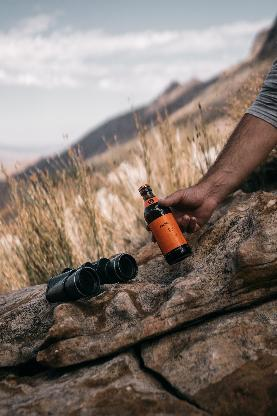Glass Bottle: (138, 184, 192, 264)
